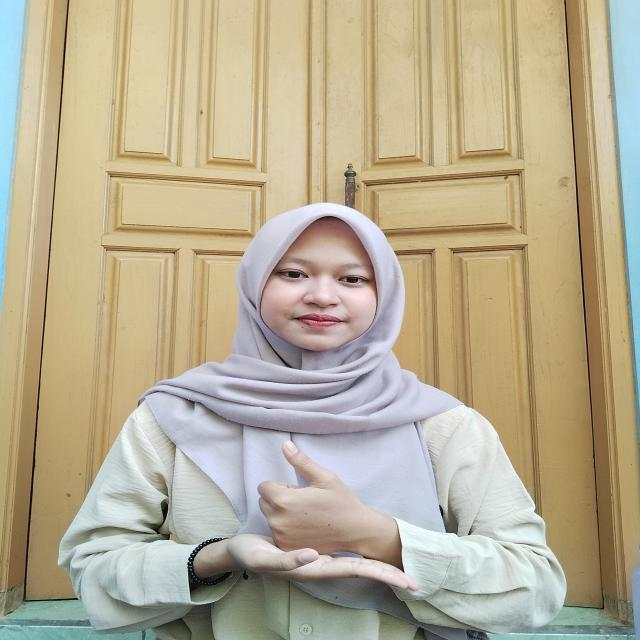tolong: (212, 442, 419, 595)
